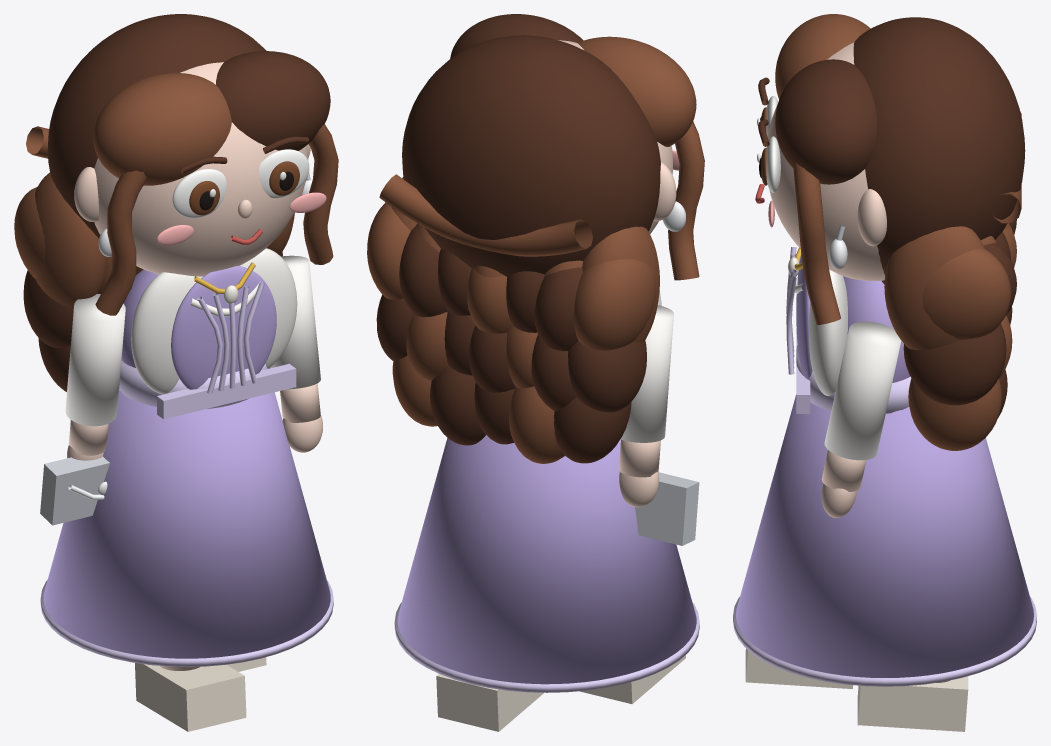
File: guest-07-master.glb
3 renders of one model, left to right at view 1: azimuth 30°, elevation 25°; view 2: azimuth 150°, elevation 25°; view 3: azimuth 270°, elevation 25°, orthographic. The views are drawn at different scales.
Visible parts, largest first — view 1: Skirt, Hair back, Head, Hair left crown, Hair right crown, Guest07 ruched bodice, Sleeve -1, Shoe -1, Back wave 1, Left bolero panel, Face curl -1, Guest07 right-hand clutch (+25 smaller); view 2: Skirt, Hair back, Hair left crown, Guest06 long back wave 1-1, Back braid, Guest06 long back wave 2-1, Sleeve -1, Shoe 1, Guest06 long back wave 3-1, Face curl -1, Guest07 right-hand clutch, Skirt hem (+22 smaller); view 3: Skirt, Hair back, Hair right crown, Sleeve 1, Back wave 7, Guest06 long back wave 1-7, Head, Guest06 long back wave 2-7, Shoe 1, Guest06 long back wave 3-5, Face curl 1, Hair left crown (+13 smaller).
Part boxes in pixels (left/top/right/bottom): Skirt: left=43, top=390, right=330, bottom=658; Hair back: left=47, top=14, right=266, bottom=238; Head: left=94, top=62, right=308, bottom=276; Hair left crown: left=93, top=73, right=231, bottom=185; Hair right crown: left=216, top=51, right=330, bottom=150; Guest07 ruched bodice: left=171, top=266, right=276, bottom=389; Sleeve -1: left=65, top=294, right=125, bottom=426; Shoe -1: left=135, top=663, right=246, bottom=731; Back wave 1: left=35, top=172, right=106, bottom=307; Left bolero panel: left=131, top=272, right=202, bottom=394; Face curl -1: left=95, top=170, right=146, bottom=315; Guest07 right-hand clutch: left=40, top=457, right=109, bottom=525; Skirt: left=397, top=435, right=696, bottom=684; Hair back: left=402, top=35, right=660, bottom=276; Hair left crown: left=577, top=36, right=696, bottom=146; Guest06 long back wave 1-1: left=574, top=259, right=656, bottom=350; Back braid: left=379, top=174, right=592, bottom=256; Guest06 long back wave 2-1: left=568, top=340, right=646, bottom=412; Sleeve -1: left=620, top=305, right=673, bottom=442; Shoe 1: left=436, top=674, right=543, bottom=731; Guest06 long back wave 3-1: left=554, top=397, right=631, bottom=463; Face curl -1: left=668, top=121, right=704, bottom=280; Guest07 right-hand clutch: left=635, top=472, right=699, bottom=545; Skirt hem: left=394, top=602, right=699, bottom=692; Skirt: left=736, top=394, right=1033, bottom=677; Hair back: left=853, top=17, right=1025, bottom=275; Hair right crown: left=775, top=59, right=876, bottom=184; Sleeve 1: left=824, top=321, right=901, bottom=460; Back wave 7: left=884, top=226, right=984, bottom=350; Guest06 long back wave 1-7: left=922, top=248, right=1011, bottom=339; Head: left=766, top=42, right=884, bottom=280; Guest06 long back wave 2-7: left=903, top=323, right=1006, bottom=405; Shoe 1: left=857, top=676, right=968, bottom=731; Guest06 long back wave 3-5: left=908, top=378, right=1001, bottom=450; Face curl 1: left=792, top=162, right=840, bottom=324; Hair left crown: left=775, top=14, right=870, bottom=99.
Size of the model in its own units: 1.37 by 3.16 by 1.3.
